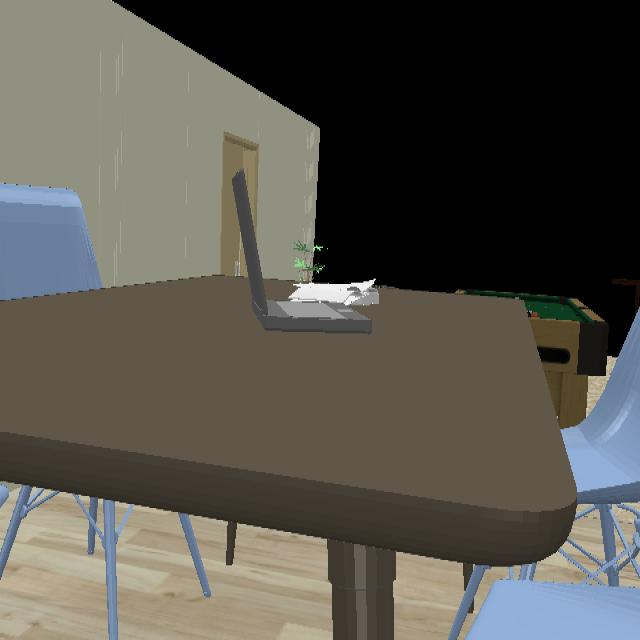book: (289, 278, 379, 304)
chair: (466, 310, 640, 638), (0, 184, 102, 299), (0, 485, 57, 578), (104, 500, 132, 638), (181, 515, 210, 596)
laptop: (232, 172, 371, 332)
table: (0, 277, 576, 638)
